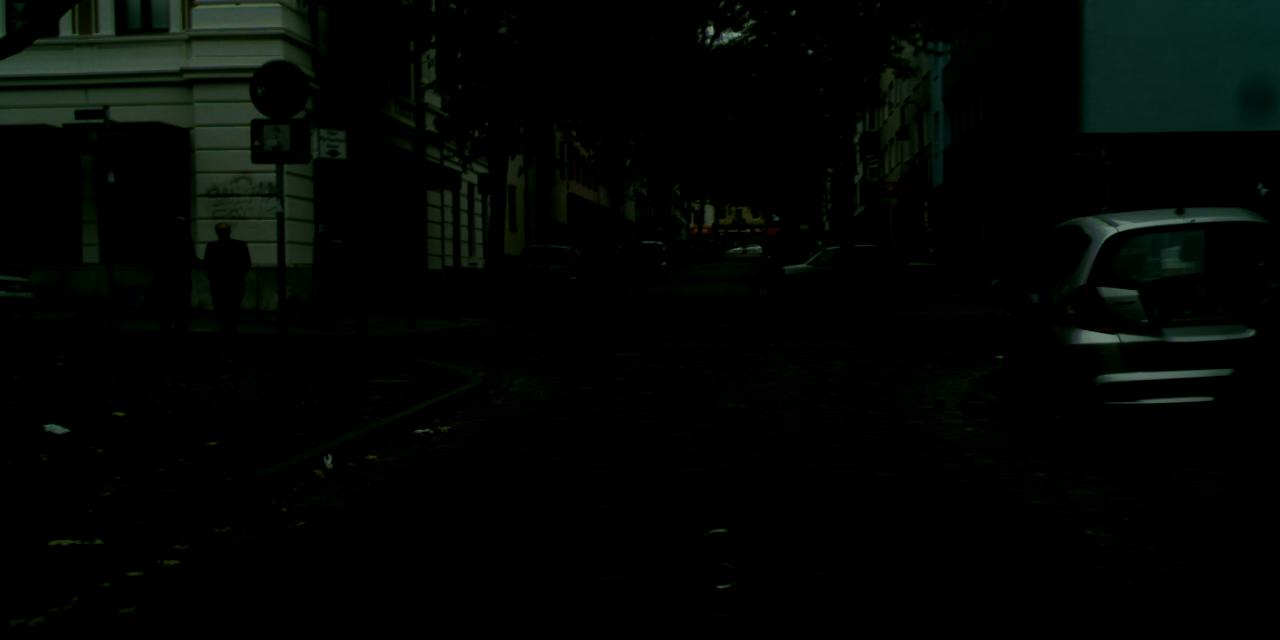ped: (149, 214, 201, 343), (199, 222, 250, 347), (742, 235, 748, 252)
